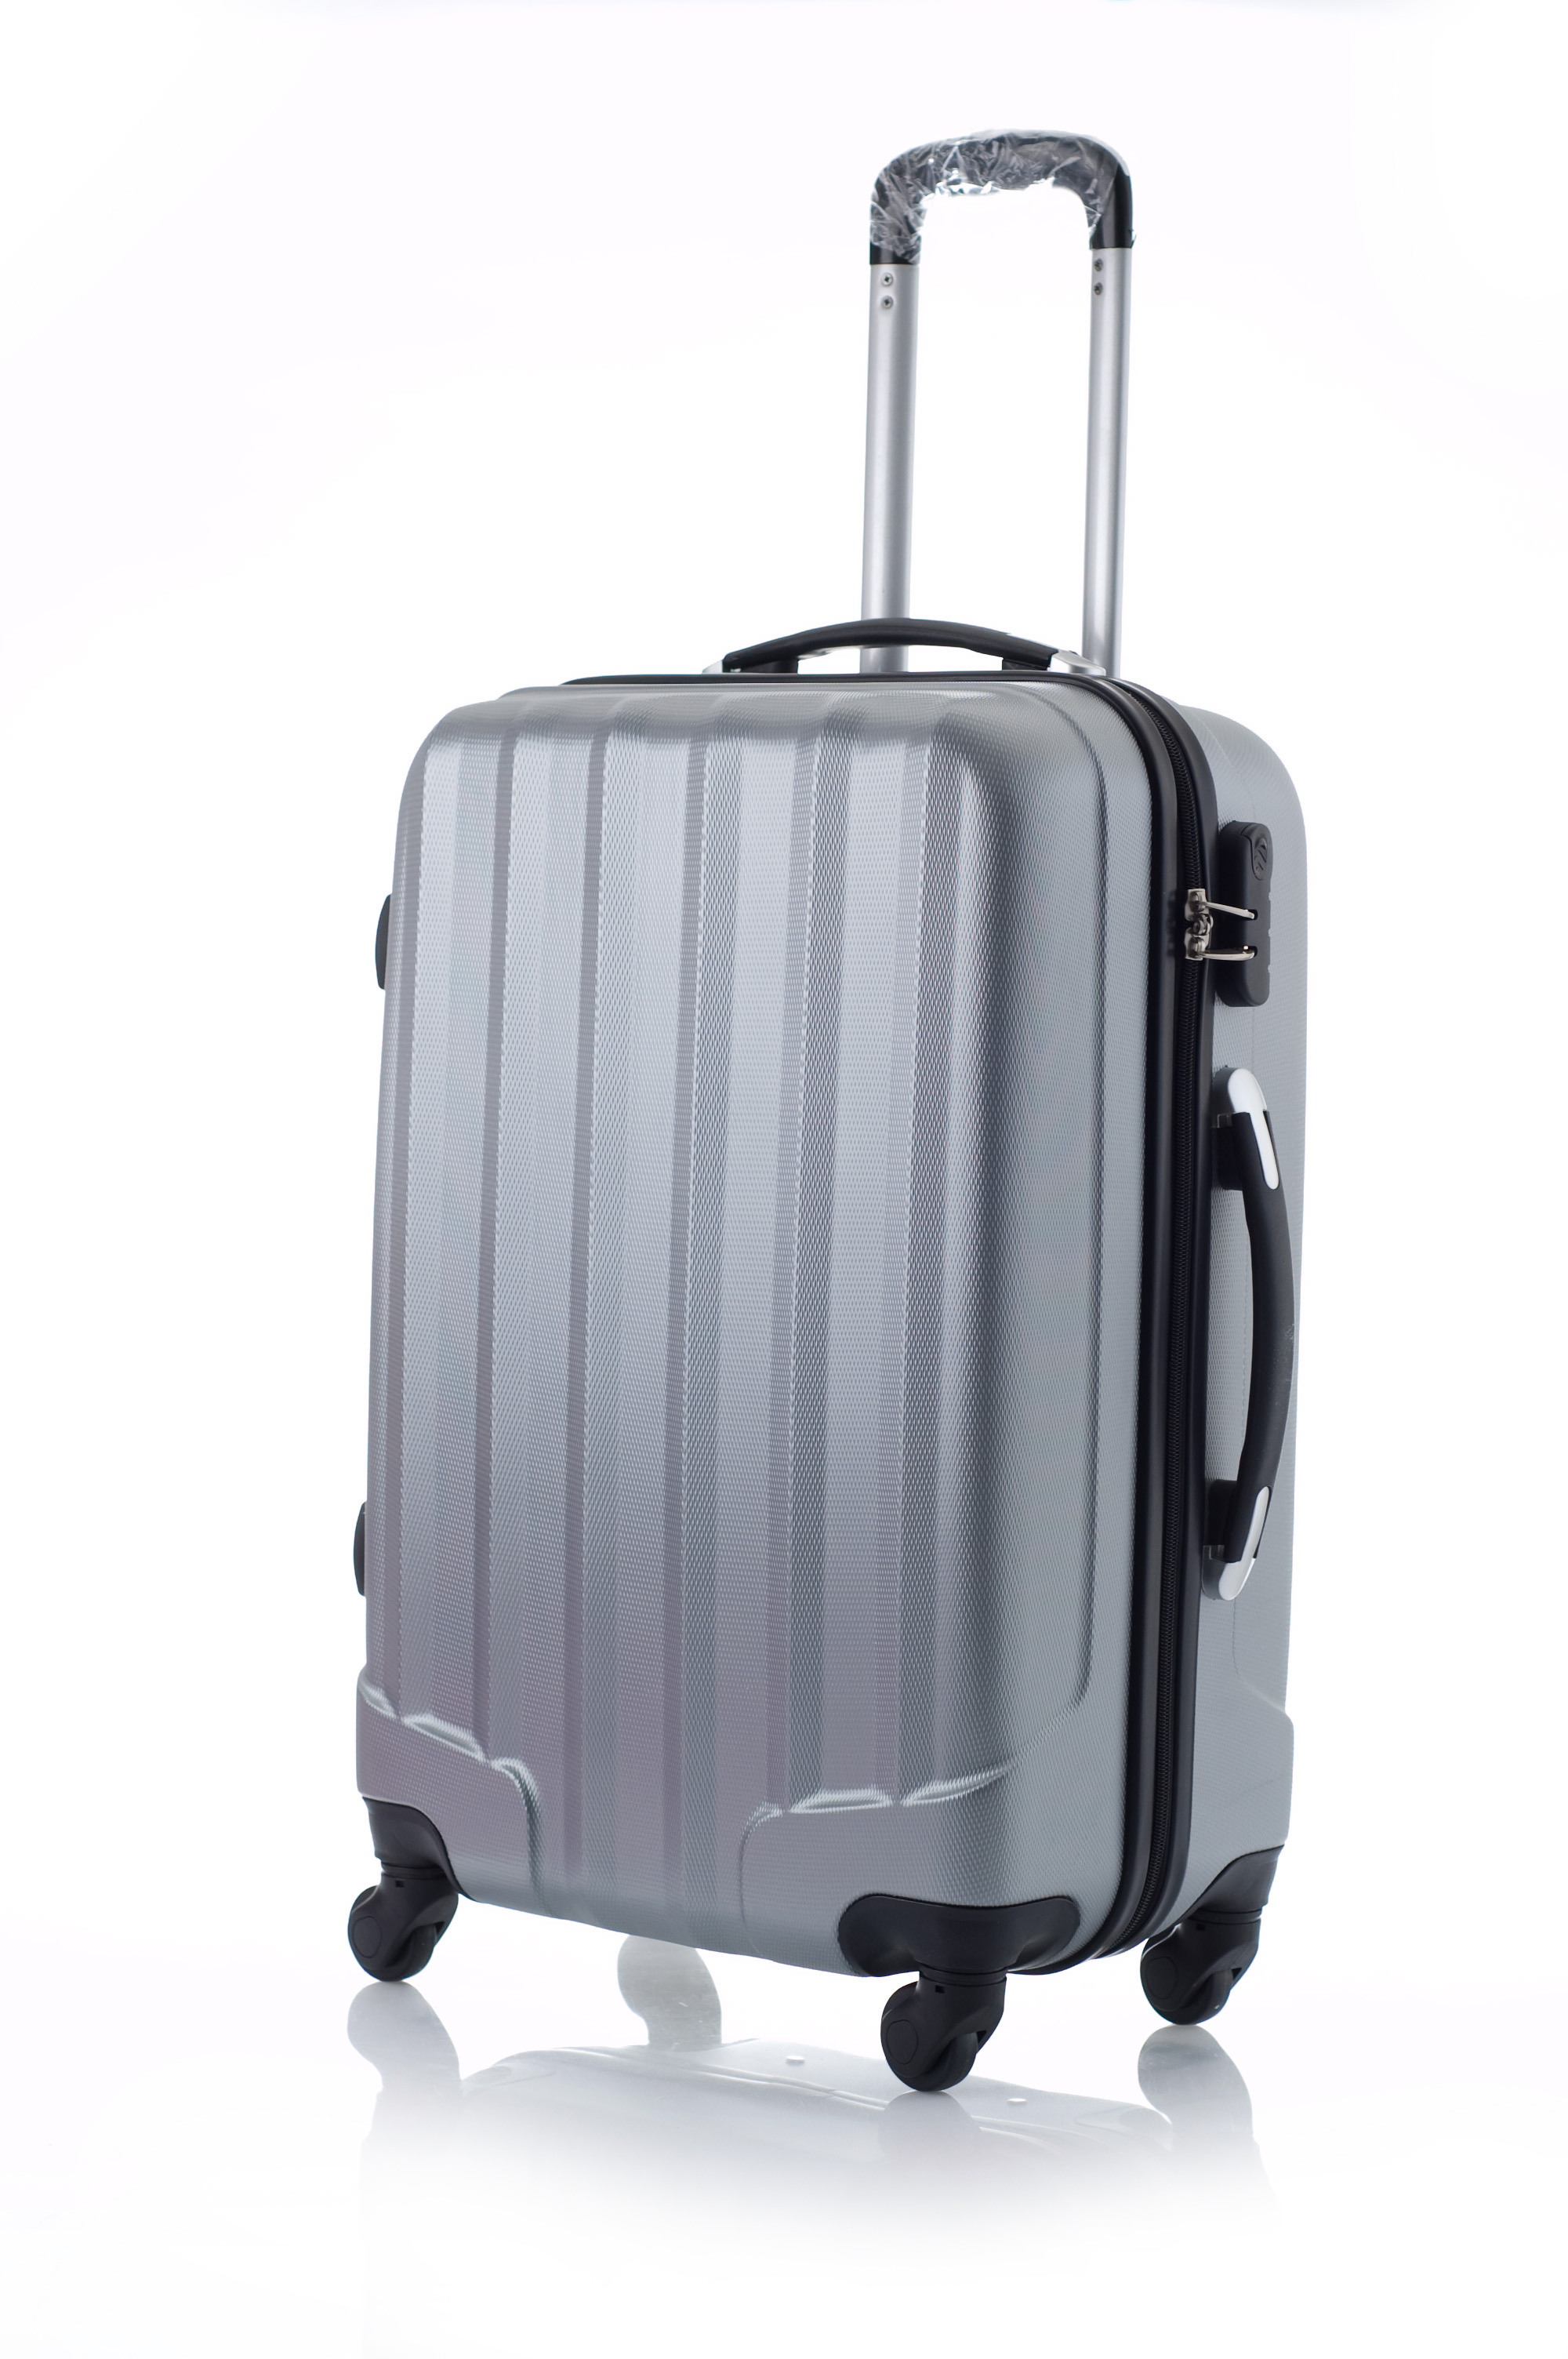luggage: (341, 135, 1311, 2096)
